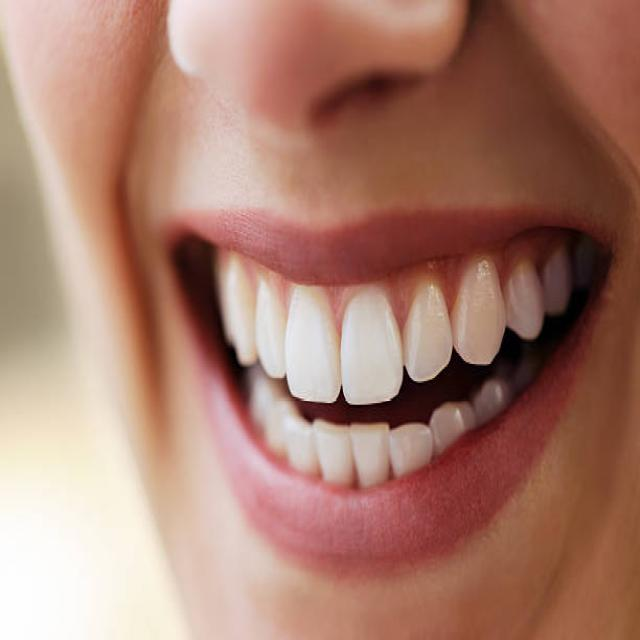tooth: (343, 295, 404, 409), (453, 260, 508, 376), (290, 287, 336, 402), (405, 284, 455, 380), (507, 257, 545, 347), (224, 264, 256, 362), (258, 279, 289, 380), (351, 418, 389, 478), (430, 392, 463, 453), (314, 420, 348, 474), (393, 416, 427, 464), (266, 394, 290, 444), (288, 420, 314, 466), (479, 383, 500, 425), (250, 386, 267, 420)
